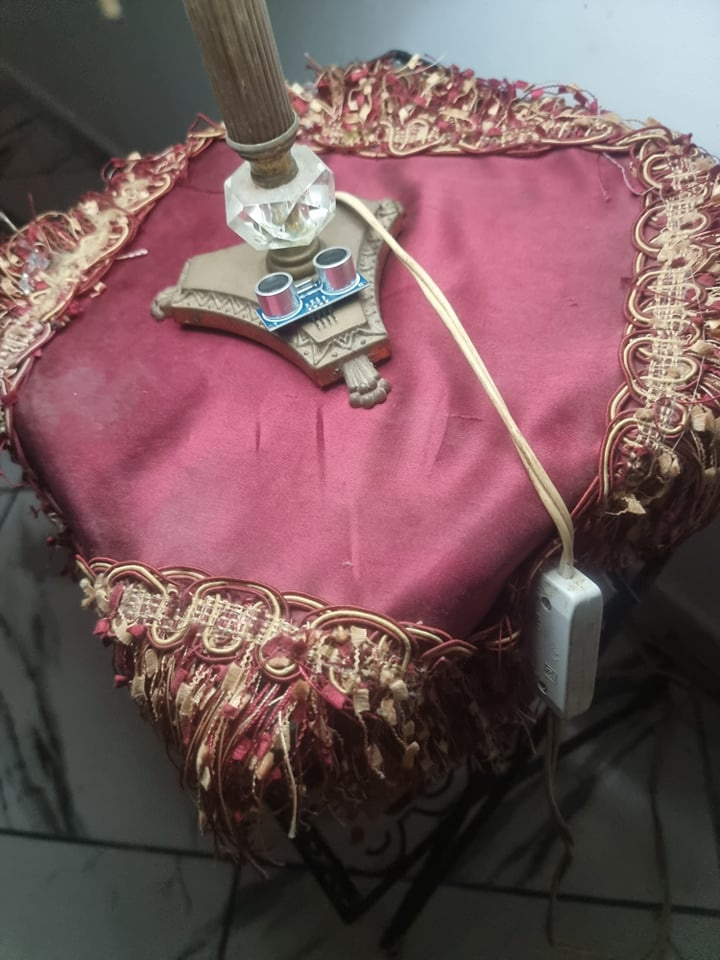SENSOR: (243, 245, 371, 335)
